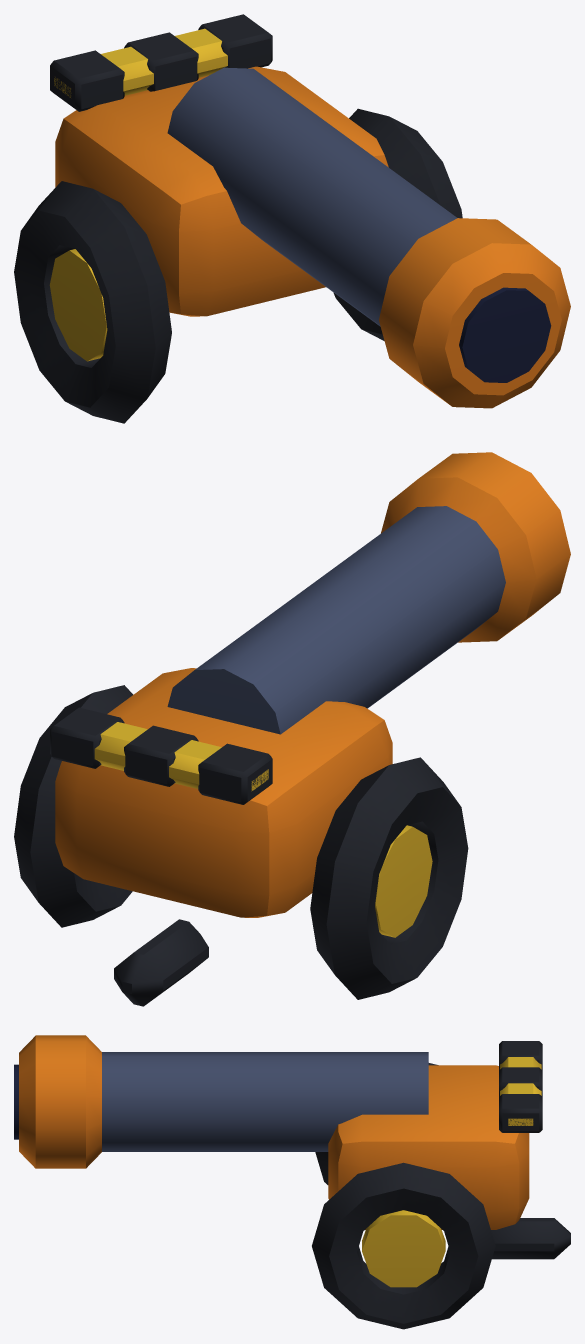
The model's file is w_b_turret.glb.
3 renders of one model, top to bottom at view 1: azimuth 30°, elevation 25°; view 2: azimuth 150°, elevation 25°; view 3: azimuth 270°, elevation 25°, orthographic. The views are drawn at different scales.
Parts seen in each view (by area): view 1: body; view 2: body; view 3: body.
Part boxes in pixels (bbox=[...]): body: bbox=[14, 14, 570, 423]; body: bbox=[14, 452, 570, 1006]; body: bbox=[14, 1035, 570, 1329].
Size of the model in its own units: 0.1785 by 0.155 by 0.333.
